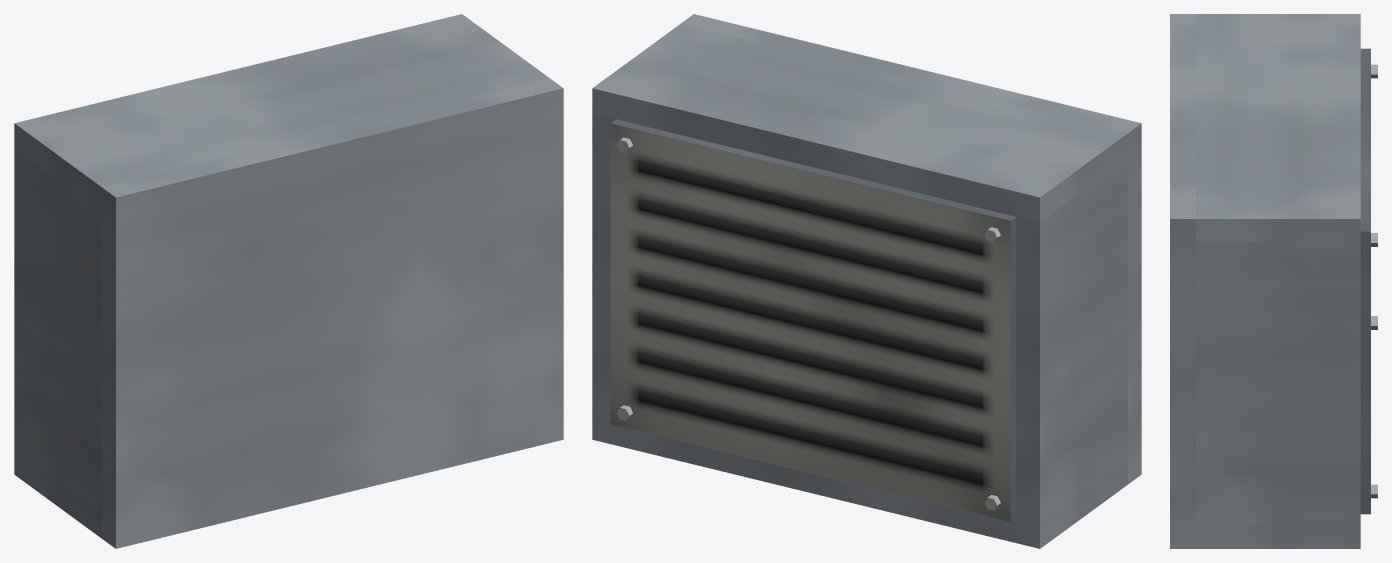
File: vent_cover.fbx
3 renders of one model, left to right at view 1: azimuth 30°, elevation 25°; view 2: azimuth 150°, elevation 25°; view 3: azimuth 270°, elevation 25°, orthographic. The views are drawn at different scales.
Parts seen in each view (by area): view 1: vent_cover; view 2: vent_cover_grille, vent_cover; view 3: vent_cover, vent_cover_grille.
Boxes of the visible parts, x1,y1,x2,y2 form: vent_cover: (14, 14, 563, 548); vent_cover_grille: (610, 119, 1015, 521); vent_cover: (592, 14, 1141, 548); vent_cover: (1170, 14, 1360, 548); vent_cover_grille: (1360, 48, 1377, 514).
Size of the model in its own units: 0.56 by 0.42 by 0.24.
1 material, 1 textured.
